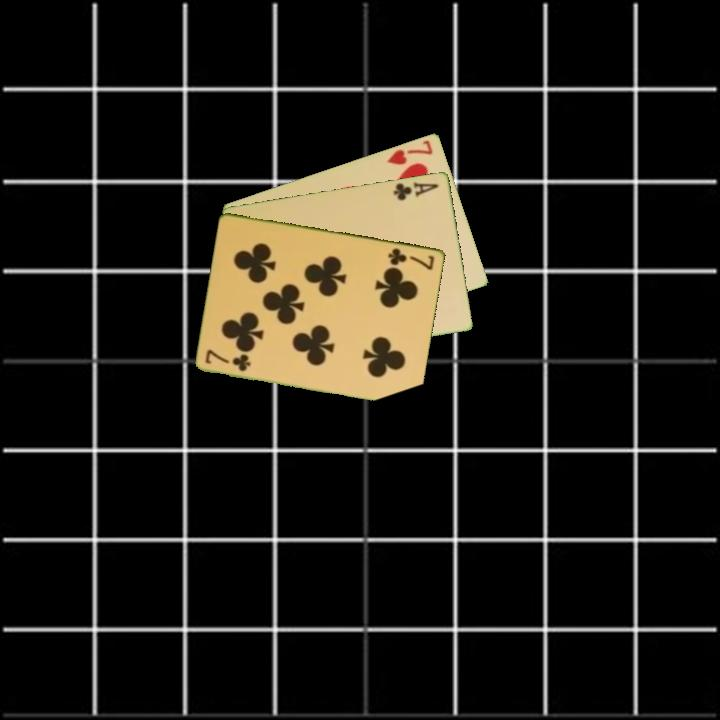7c: (385, 244, 437, 272), (202, 346, 254, 374)
7h: (384, 136, 436, 167)
Ac: (390, 178, 441, 203)
